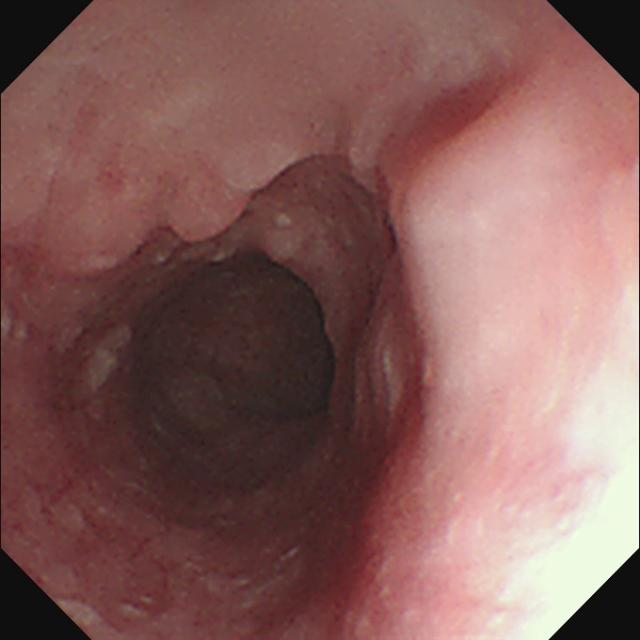A: (380, 129, 492, 291), (171, 181, 251, 251), (60, 226, 151, 281)
J: (87, 325, 134, 391), (378, 341, 406, 423), (55, 598, 111, 638)
